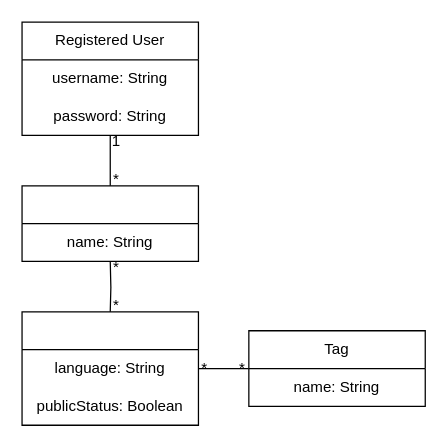
Image size: 447x447. Some labels were removed from this diagram. The shapes that lost their labels are listed below. From the top down, each one's box as (x1, y1, x2, y2) in pixels, then its label:
(21, 185, 198, 261): Collection
(21, 311, 198, 425): Snippet
